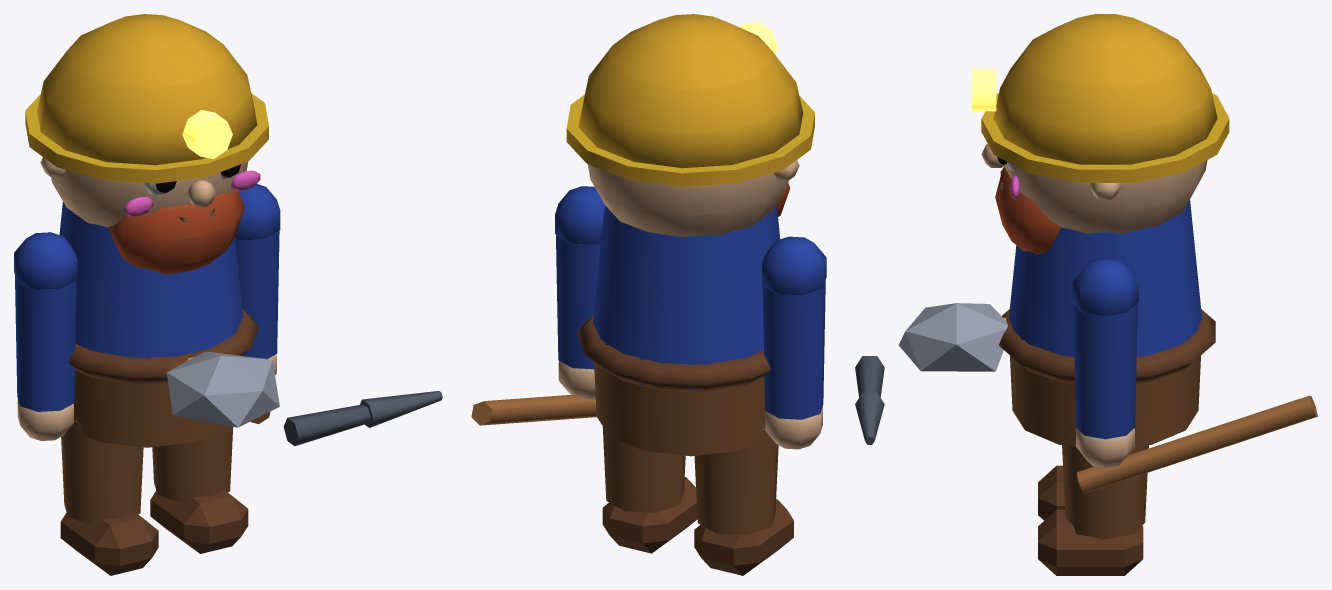
File: villager_miner.glb
The picture shows the model from 3 angles, left to right: view 1: azimuth 30°, elevation 25°; view 2: azimuth 150°, elevation 25°; view 3: azimuth 270°, elevation 25°; orthographic projection.
Parts seen in each view (by area): view 1: body_t0_palette, arml_t0_palette, legl_t0_palette, armr_t0_palette, legr_t0_palette, carry_t0_palette, body_t0_window; view 2: body_t0_palette, arml_t0_palette, armr_t0_palette, legl_t0_palette, legr_t0_palette, body_t0_window; view 3: body_t0_palette, armr_t0_palette, legr_t0_palette, carry_t0_palette, legl_t0_palette, body_t0_window.
Boxes of the visible parts, x1,y1,x2,y2 form: body_t0_palette: [25, 14, 268, 447]; arml_t0_palette: [14, 232, 77, 440]; legl_t0_palette: [60, 420, 158, 575]; armr_t0_palette: [235, 184, 442, 446]; legr_t0_palette: [150, 426, 248, 553]; carry_t0_palette: [166, 351, 279, 427]; body_t0_window: [182, 110, 232, 158]; body_t0_palette: [566, 14, 814, 456]; arml_t0_palette: [762, 236, 826, 449]; armr_t0_palette: [471, 186, 604, 425]; legl_t0_palette: [694, 428, 793, 575]; legr_t0_palette: [602, 426, 697, 553]; body_t0_window: [740, 21, 777, 53]; body_t0_palette: [981, 14, 1229, 446]; armr_t0_palette: [855, 258, 1317, 493]; legr_t0_palette: [1038, 445, 1148, 575]; carry_t0_palette: [898, 303, 1007, 371]; legl_t0_palette: [1038, 465, 1064, 520]; body_t0_window: [971, 69, 996, 111].
Bounding box in the file's own units: 0.2866 × 0.4645 × 0.3734.
